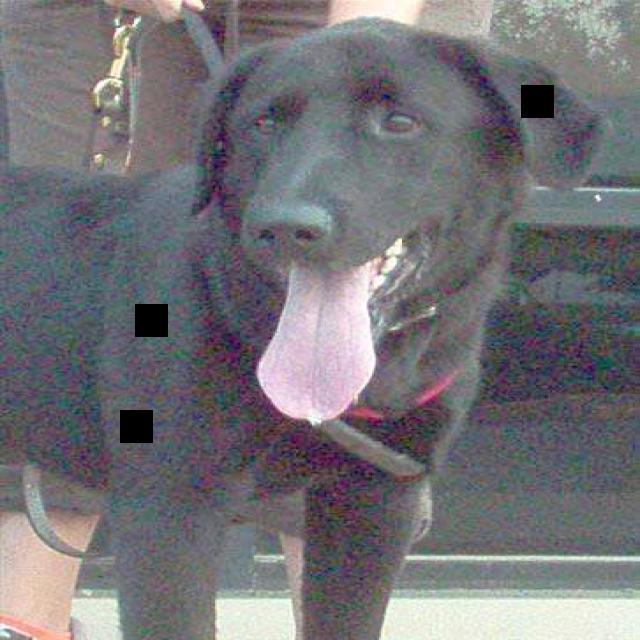adult_dog: (3, 20, 620, 632)
